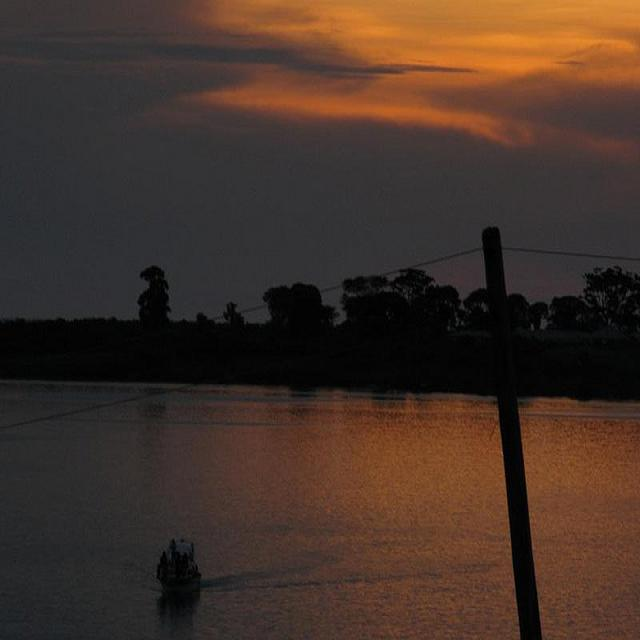Boat: (142, 542, 234, 613)
